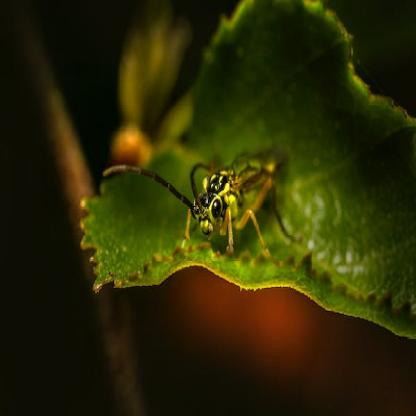sawfly: (116, 142, 303, 260)
